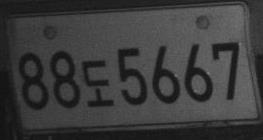5: (116, 46, 148, 105)
6: (151, 44, 181, 103), (183, 44, 213, 102)
7: (213, 41, 240, 100)
8: (17, 52, 50, 110), (51, 50, 80, 108)
도: (82, 59, 114, 107)
